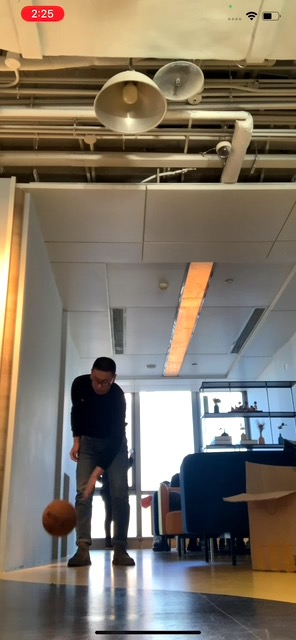ball: (41, 499, 79, 537)
